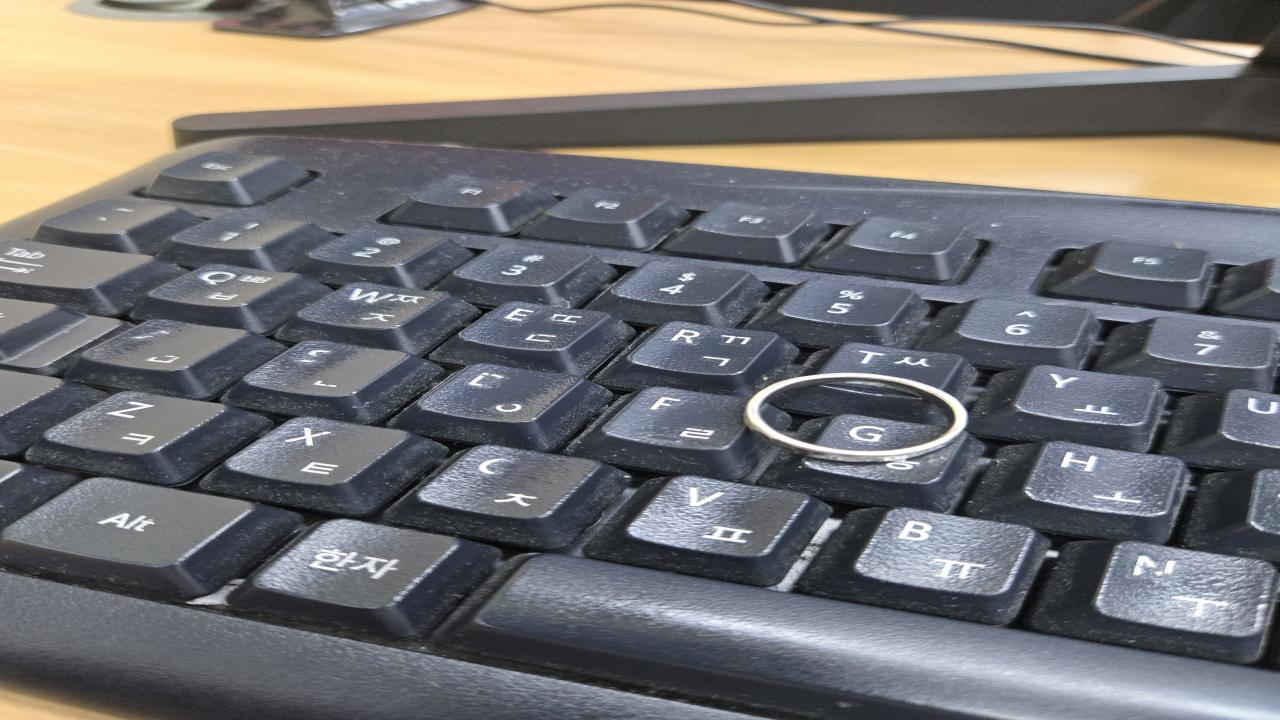ring: (738, 374, 973, 462)
